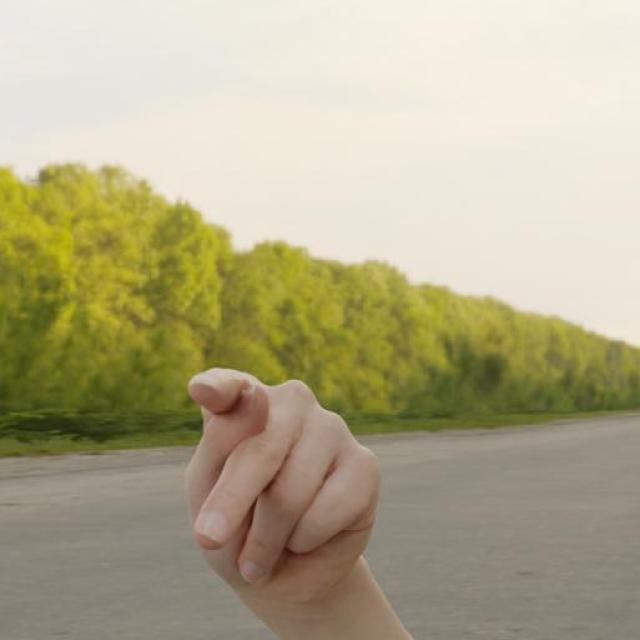P: (181, 365, 385, 619)
